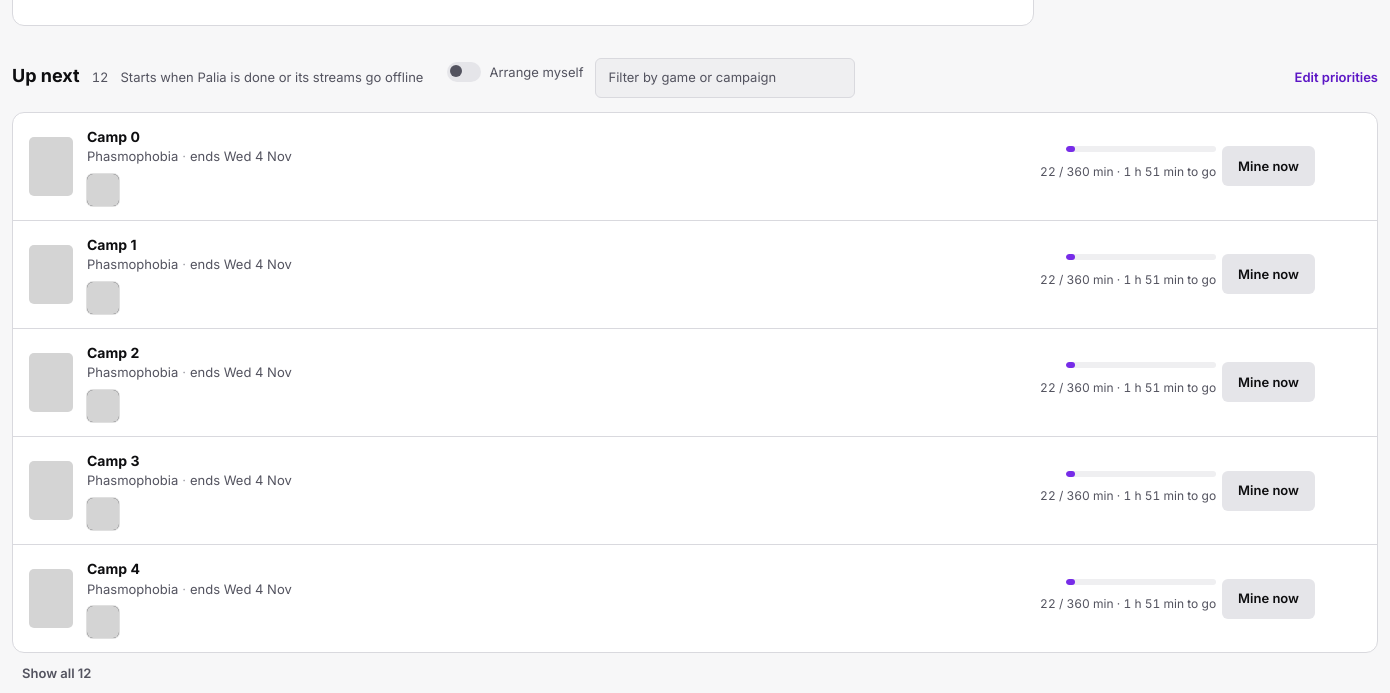
Up next shows the next 5 and the rest on request
The width and height of the screenshot is (1390, 693).
(page scrolled)
Expected: the text "Camp 4" is shown, 87,560 -> 140,577
Expected: the text "Camp 5" is not shown
Click the button "Show all 12".
click(69, 673)  # box 12,653 -> 126,692
(page scrolled)
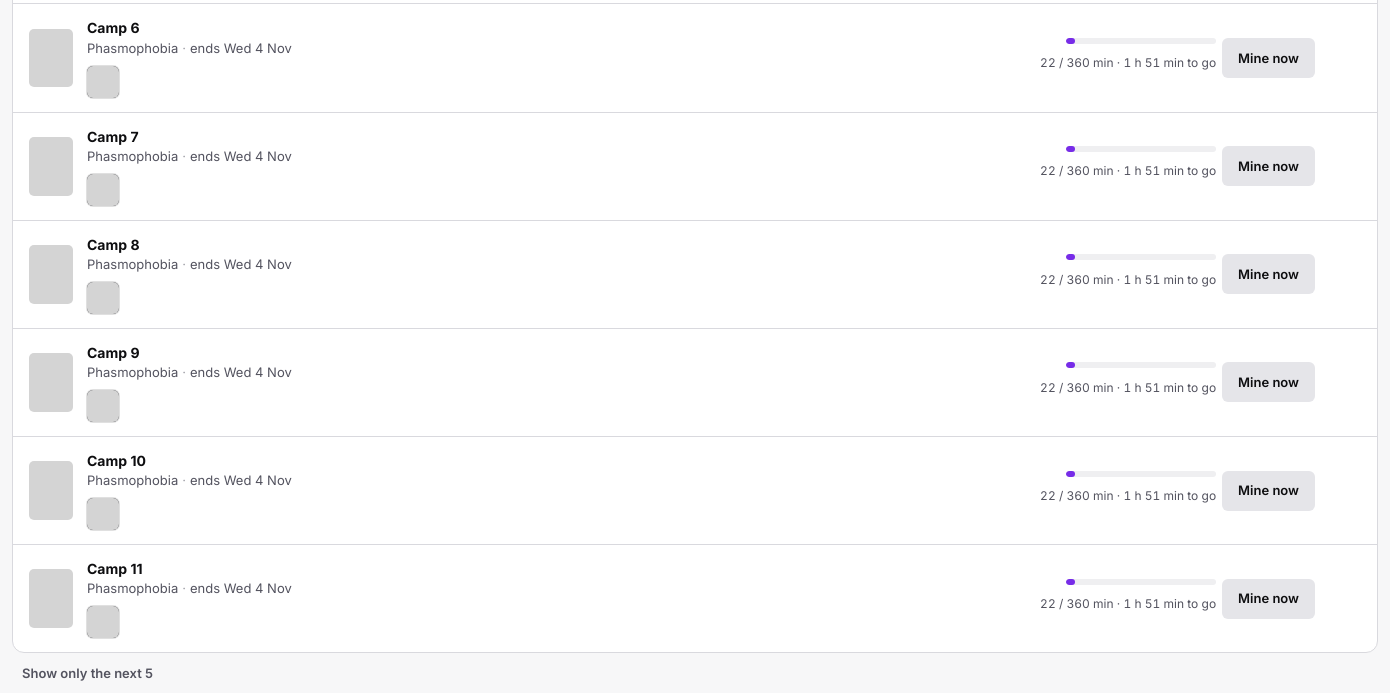
Result: the text "Camp 11" is shown at 87,560 -> 142,577
